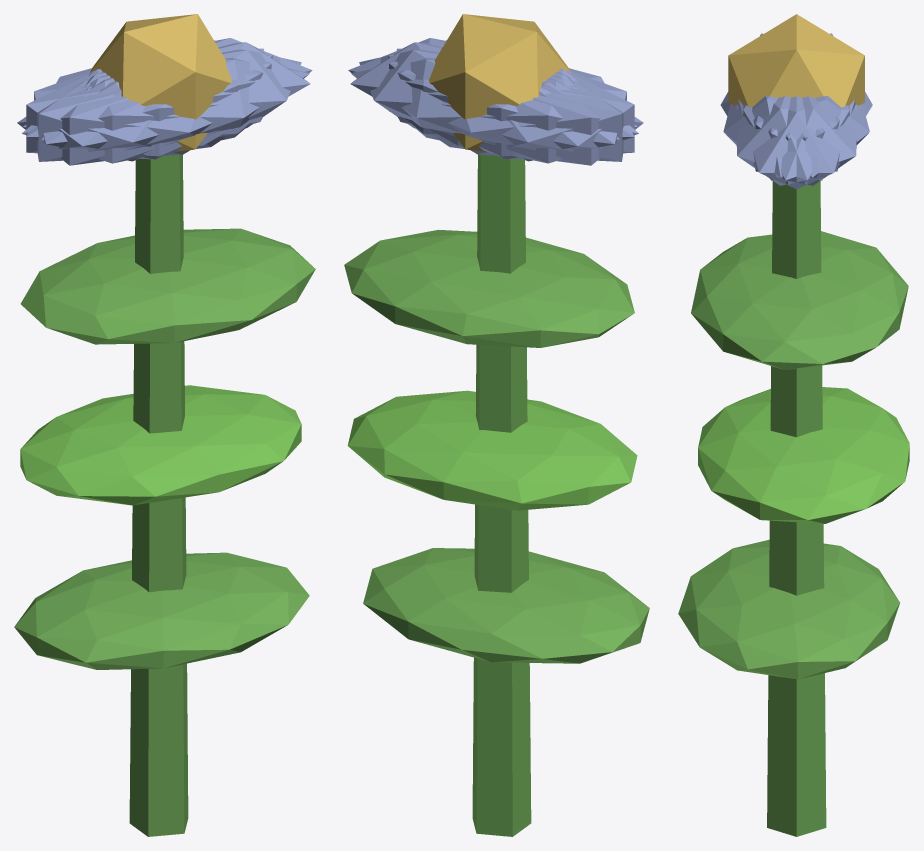
Rendered from jatropha-podagrica.glb.
The picture shows the model from 3 angles, left to right: view 1: azimuth 30°, elevation 25°; view 2: azimuth 150°, elevation 25°; view 3: azimuth 270°, elevation 25°; orthographic projection.
Visible parts, largest first — view 1: stem, leaf0, leaf2, leaf1, center, petal1, petal6, petal2, petal5, petal7, petal0, petal4 (+2 smaller); view 2: stem, leaf1, leaf2, leaf0, center, petal8, petal3, petal7, petal4, petal2, petal0, petal5 (+2 smaller); view 3: leaf2, stem, leaf1, leaf0, center, petal0, petal5, petal4, petal8, petal1.
Part boxes in pixels (bbox=[...]): stem: bbox=[129, 154, 188, 836]; leaf0: bbox=[14, 552, 309, 669]; leaf2: bbox=[20, 228, 315, 344]; leaf1: bbox=[20, 385, 301, 505]; center: bbox=[90, 14, 231, 151]; petal1: bbox=[22, 57, 309, 163]; petal6: bbox=[17, 70, 225, 165]; petal2: bbox=[37, 48, 264, 161]; petal5: bbox=[41, 49, 301, 156]; petal7: bbox=[26, 54, 272, 159]; petal0: bbox=[89, 42, 310, 146]; petal4: bbox=[23, 38, 312, 137]; stem: bbox=[472, 154, 531, 836]; leaf1: bbox=[347, 390, 637, 510]; leaf2: bbox=[344, 229, 634, 347]; leaf0: bbox=[363, 548, 649, 663]; center: bbox=[429, 14, 570, 151]; petal8: bbox=[351, 57, 638, 163]; petal3: bbox=[435, 70, 643, 165]; petal7: bbox=[396, 48, 623, 161]; petal4: bbox=[359, 49, 619, 156]; petal2: bbox=[388, 54, 634, 159]; petal0: bbox=[350, 42, 571, 146]; petal5: bbox=[348, 38, 637, 137]; leaf2: bbox=[691, 231, 908, 369]; stem: bbox=[767, 181, 826, 836]; leaf1: bbox=[698, 387, 909, 523]; leaf0: bbox=[678, 539, 899, 679]; center: bbox=[728, 14, 864, 107]; petal0: bbox=[738, 96, 855, 189]; petal5: bbox=[736, 96, 849, 185]; petal4: bbox=[743, 96, 856, 185]; petal8: bbox=[753, 96, 869, 177]; petal1: bbox=[723, 96, 839, 177].
Size of the model in its own units: 0.1452 by 0.3923 by 0.1039.
